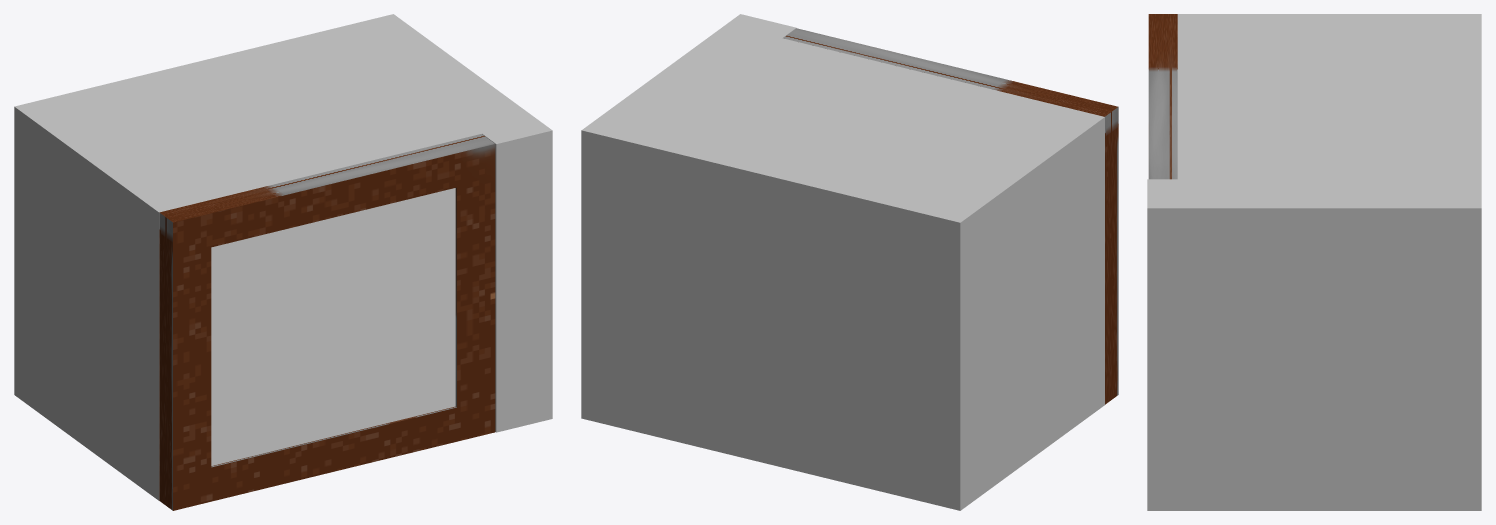
File: microwave.fbx
The picture shows the model from 3 angles, left to right: view 1: azimuth 30°, elevation 25°; view 2: azimuth 150°, elevation 25°; view 3: azimuth 270°, elevation 25°; orthographic projection. The views are drawn at different scales.
Visible parts, largest first — view 1: microwave, glass, door; view 2: microwave, door; view 3: microwave, door.
Boxes of the visible parts, x1,y1,x2,y2 form: microwave: (14, 14, 552, 500); glass: (211, 188, 455, 465); door: (159, 134, 495, 510); microwave: (581, 14, 1104, 510); door: (783, 28, 1118, 404); microwave: (1147, 14, 1481, 510); door: (1148, 14, 1177, 179).
Bounding box in the file's own units: 574 × 417 × 417.
